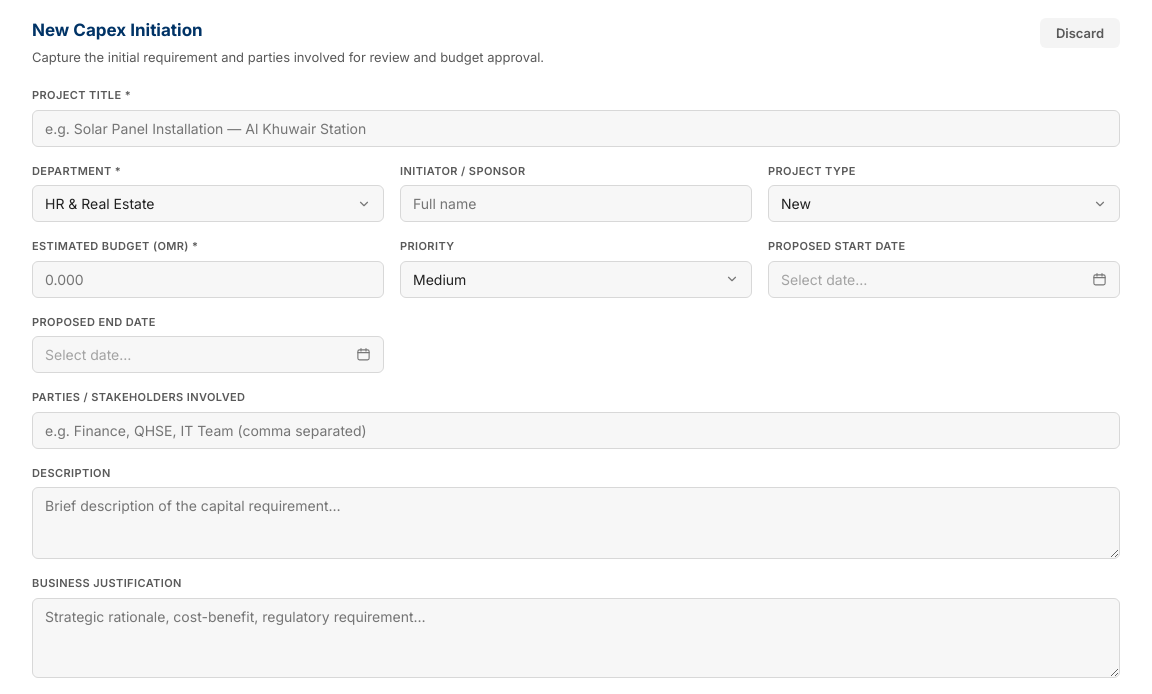
Test case: CapexInitiationForm — validation › shows error when estimated budget is missing
Step 1. Type "My Project" into the field with placeholder "e.g. Solar Panel Installation — Al Khuwair Station" → (576, 128), box [32,110,1120,146]
(page scrolled)
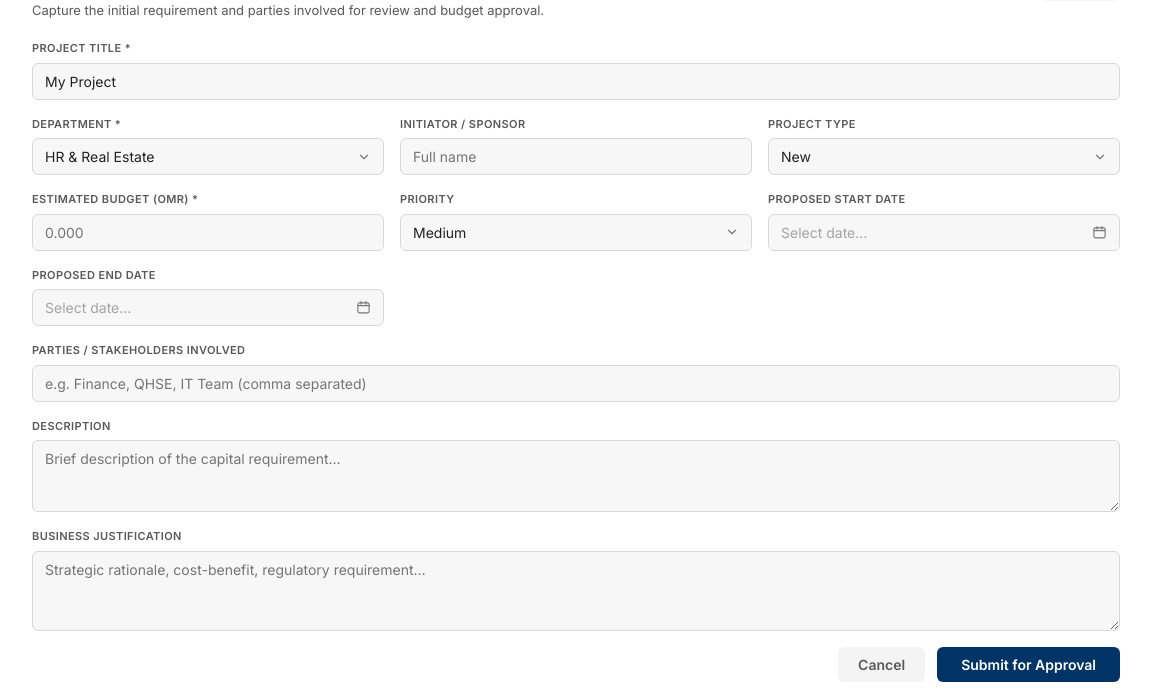
Step 2. Click the button "Submit for Approval" → (1029, 664), box [937,646,1120,682]
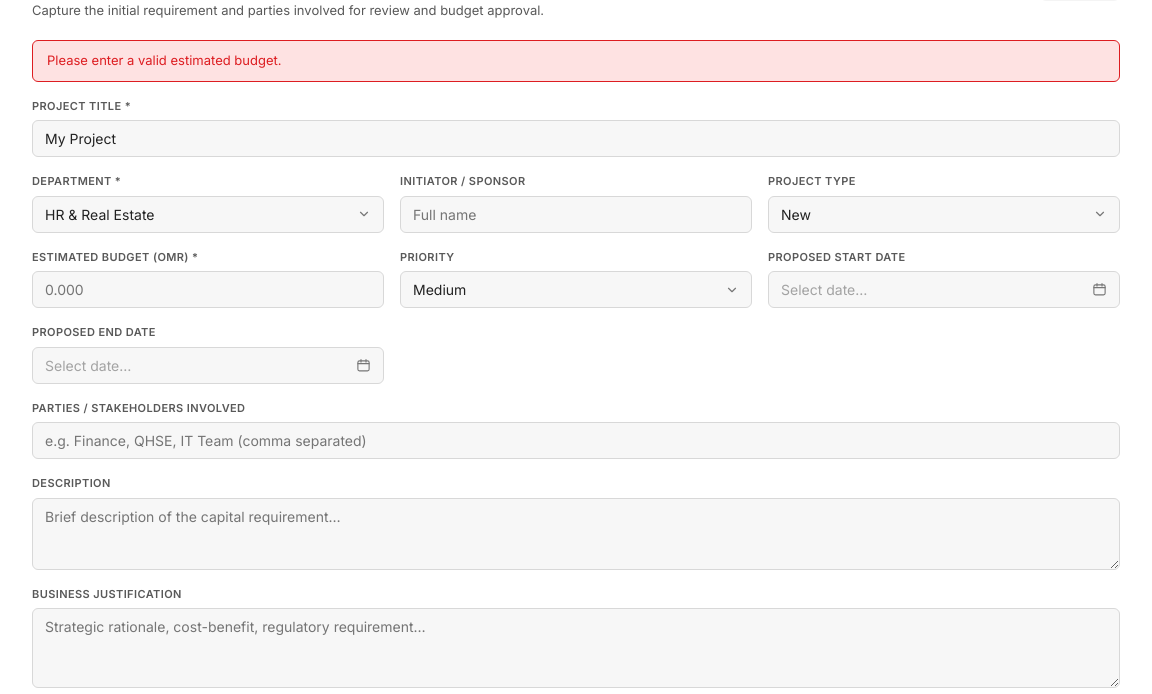
Check: the text "Please enter a valid estimated budget." is shown, box [32,40,1120,82]
